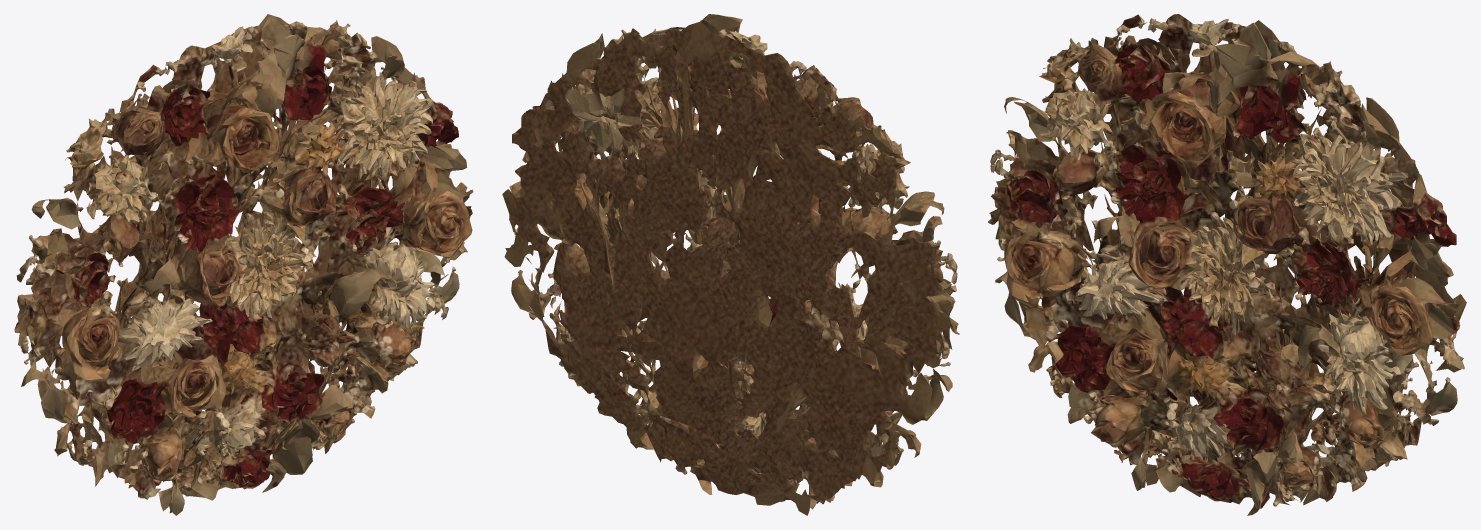
The model's file is e4wreath.glb.
3 renders of one model, left to right at view 1: azimuth 30°, elevation 25°; view 2: azimuth 150°, elevation 25°; view 3: azimuth 330°, elevation 25°, orthographic. The views are drawn at different scales.
Parts seen in each view (by area): view 1: output_unwrapped; view 2: output_unwrapped; view 3: output_unwrapped.
Boxes of the visible parts, bbox=[...] form: output_unwrapped: bbox=[14, 14, 473, 515]; output_unwrapped: bbox=[502, 14, 959, 515]; output_unwrapped: bbox=[988, 14, 1466, 515].
Bounding box in the file's own units: 0.74 × 0.7376 × 0.097.
1 material, 1 textured.
